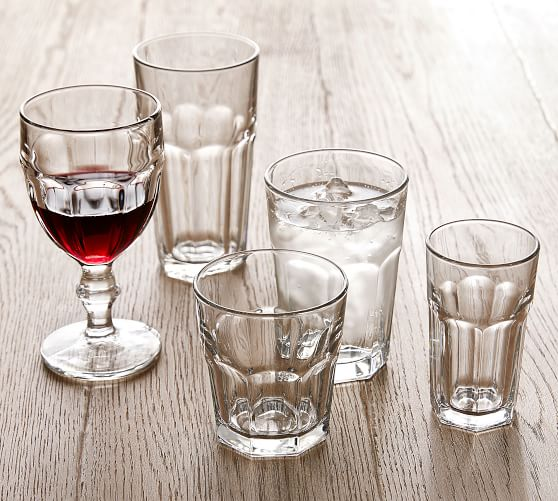Nonrec_Glass: (13, 79, 170, 400), (184, 247, 362, 466), (261, 142, 402, 390), (132, 22, 261, 281), (417, 205, 539, 445)
